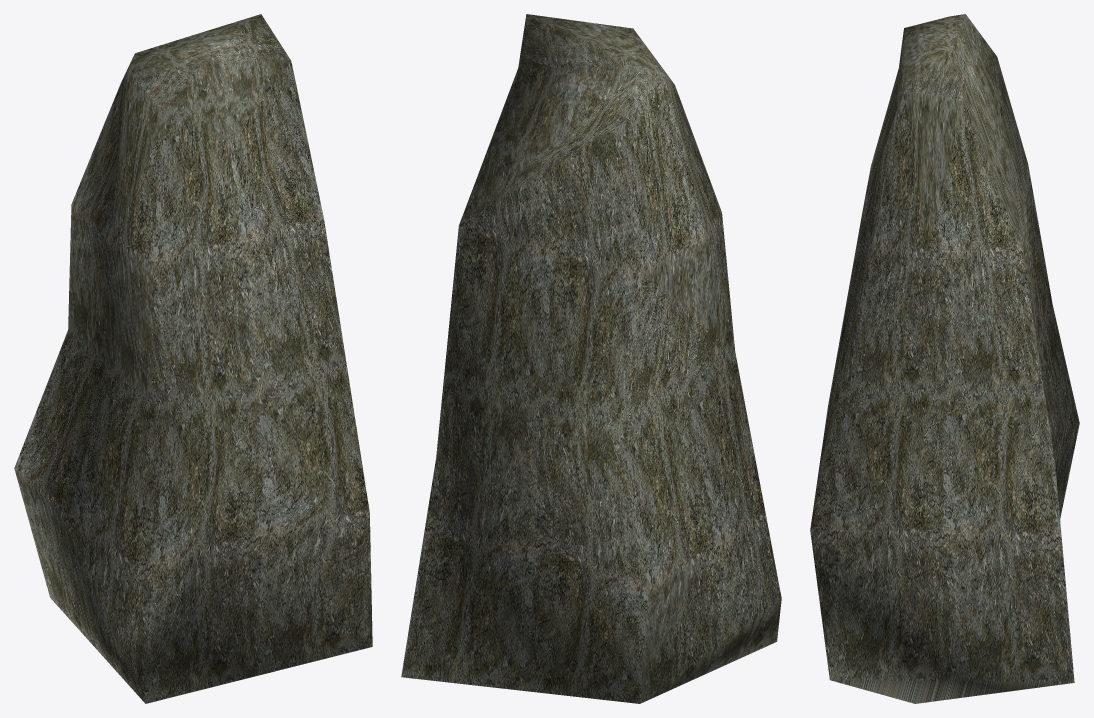
Rendered from rock_dant_l2.fbx.
The picture shows the model from 3 angles, left to right: view 1: azimuth 30°, elevation 25°; view 2: azimuth 150°, elevation 25°; view 3: azimuth 270°, elevation 25°; orthographic projection. The views are drawn at different scales.
Visible parts, largest first — view 1: mesh_node; view 2: mesh_node; view 3: mesh_node.
Part boxes in pixels (left/top/right/bottom): mesh_node: left=14, top=14, right=372, bottom=703; mesh_node: left=401, top=14, right=781, bottom=703; mesh_node: left=810, top=14, right=1079, bottom=703.
Bounding box in the file's own units: 1.98 × 4.59 × 1.82.
1 material, 1 textured.
